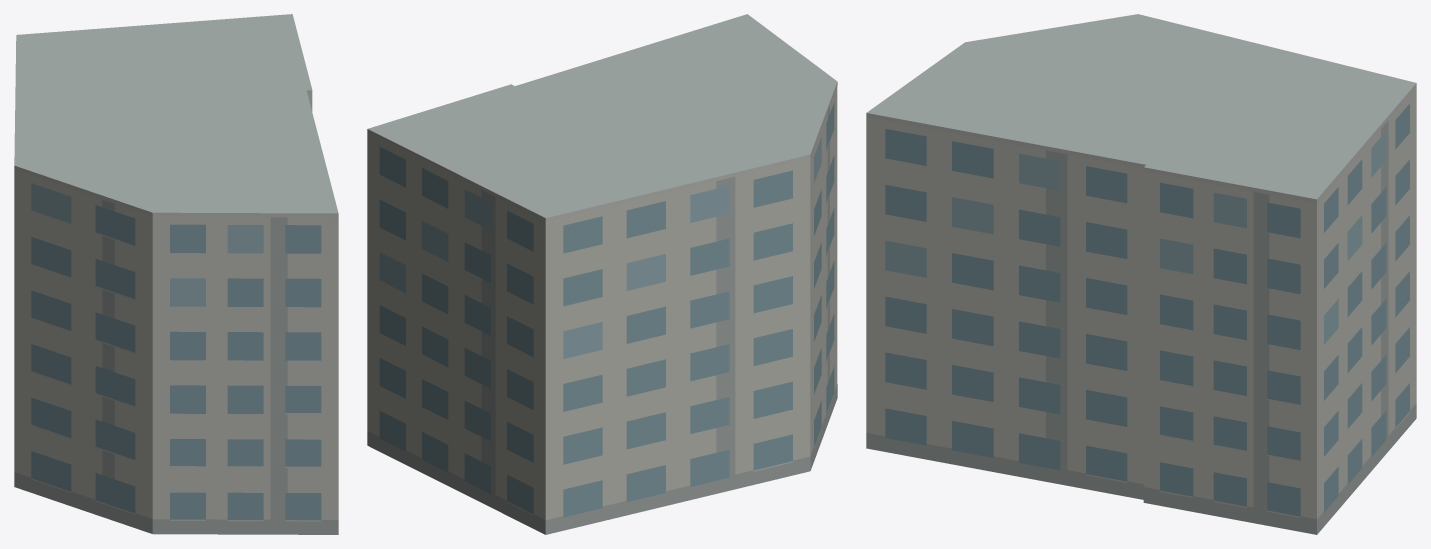
The model's file is survey-upis-32962485.glb.
3 renders of one model, left to right at view 1: azimuth 30°, elevation 25°; view 2: azimuth 150°, elevation 25°; view 3: azimuth 270°, elevation 25°, orthographic. The views are drawn at different scales.
Parts seen in each view (by area): view 1: survey-upis-32962485.tmp; view 2: survey-upis-32962485.tmp; view 3: survey-upis-32962485.tmp.
Boxes of the visible parts, <box> form: survey-upis-32962485.tmp: <box>14,14,338,534</box>; survey-upis-32962485.tmp: <box>367,14,837,534</box>; survey-upis-32962485.tmp: <box>866,14,1416,534</box>.
Size of the model in its own units: 22.88 by 19.3 by 28.69.
